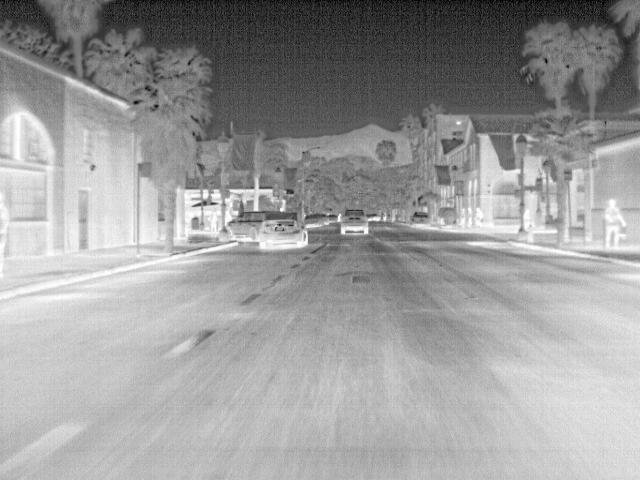car: (218, 209, 296, 243), (256, 218, 311, 252), (339, 214, 370, 234), (410, 211, 431, 230), (304, 212, 326, 228)
person: (601, 198, 629, 248), (472, 206, 486, 228)
